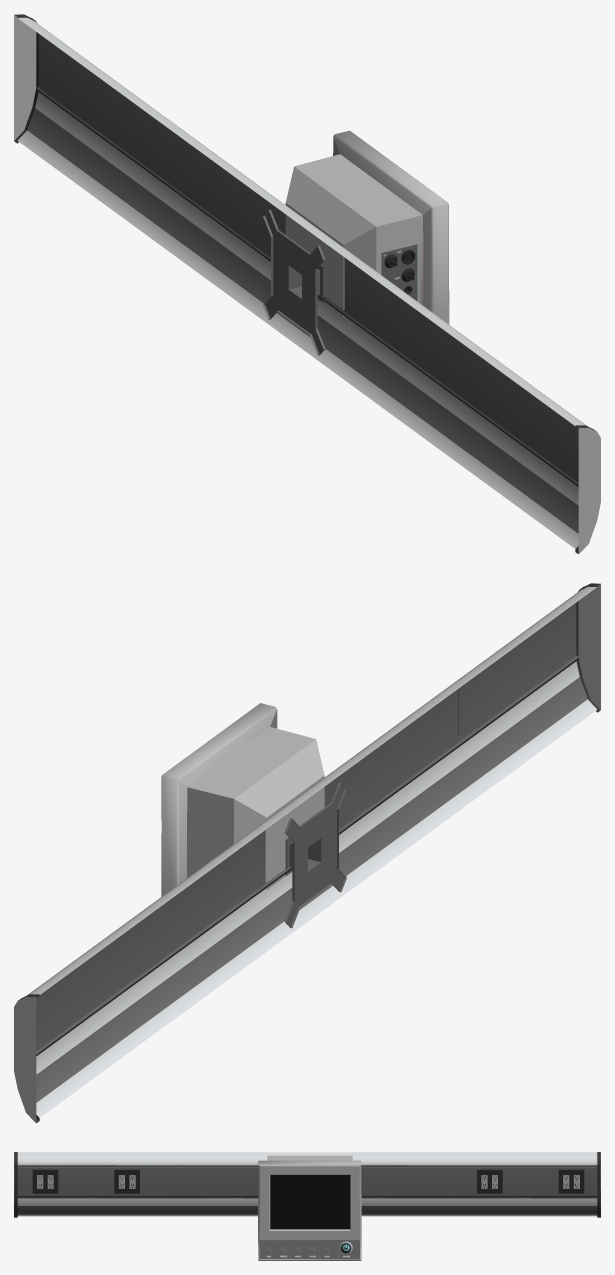
File: Bagskinne.fbx
3 renders of one model, top to bottom at view 1: azimuth 30°, elevation 25°; view 2: azimuth 150°, elevation 25°; view 3: azimuth 270°, elevation 25°, orthographic. The views are drawn at different scales.
Parts seen in each view (by area): view 1: Panel_2, Monitor; view 2: Panel_2, Monitor; view 3: Panel_2, Monitor.
Part boxes in pixels (x1,y1,x2,y2): Panel_2: [14, 14, 600, 554]; Monitor: [263, 130, 449, 355]; Panel_2: [14, 583, 600, 1123]; Monitor: [161, 703, 346, 928]; Panel_2: [14, 1152, 600, 1217]; Monitor: [258, 1155, 361, 1260].
Size of the model in its own units: 33.68 by 47.75 by 273.
